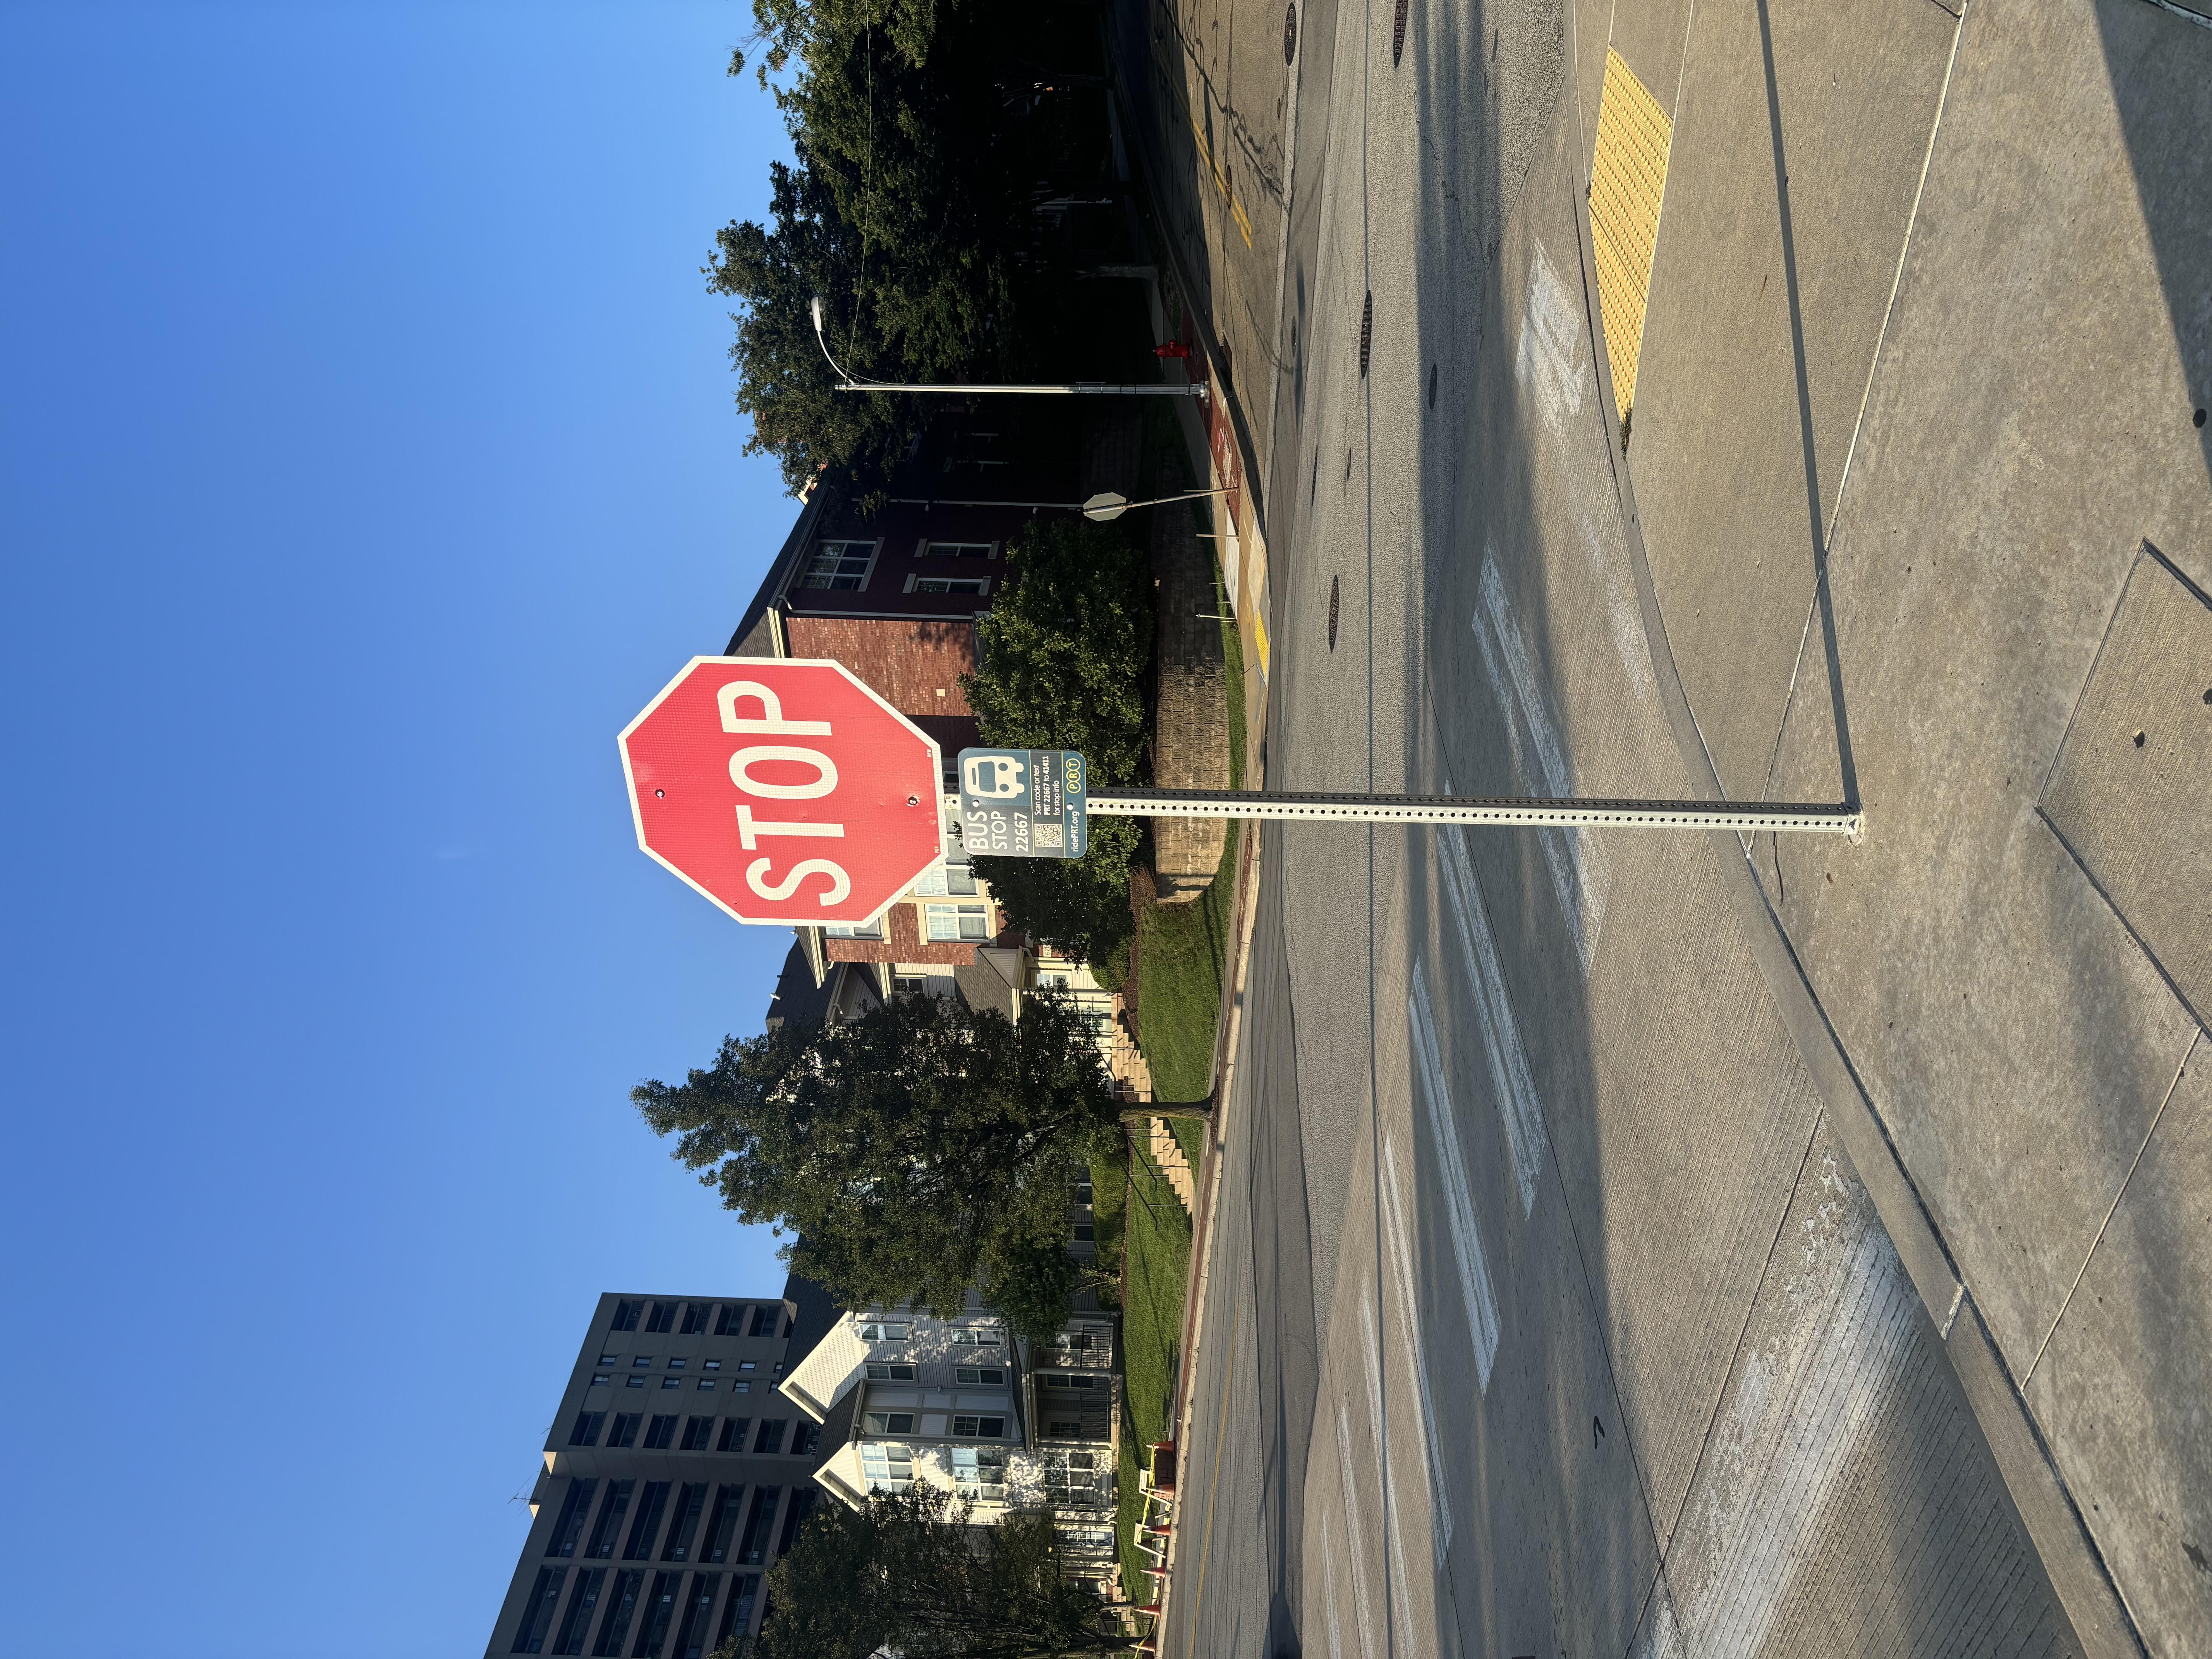Pole: (1099, 816, 1191, 1389)
Sign: (981, 469, 1334, 709)
